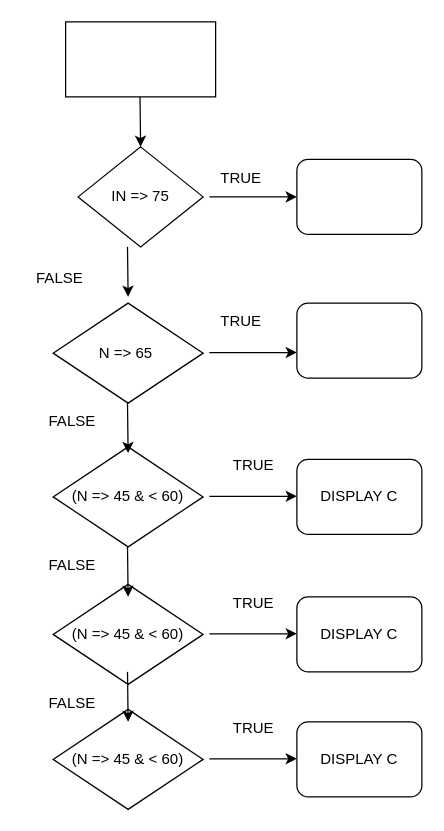
Image size: 444x831. Some labels were removed from this diagram. Each missing label, with the centre of its shape:
DISPLAY A: the point at 359,196
DISPLAY B: the point at 359,340
INPUT N: the point at 140,59
